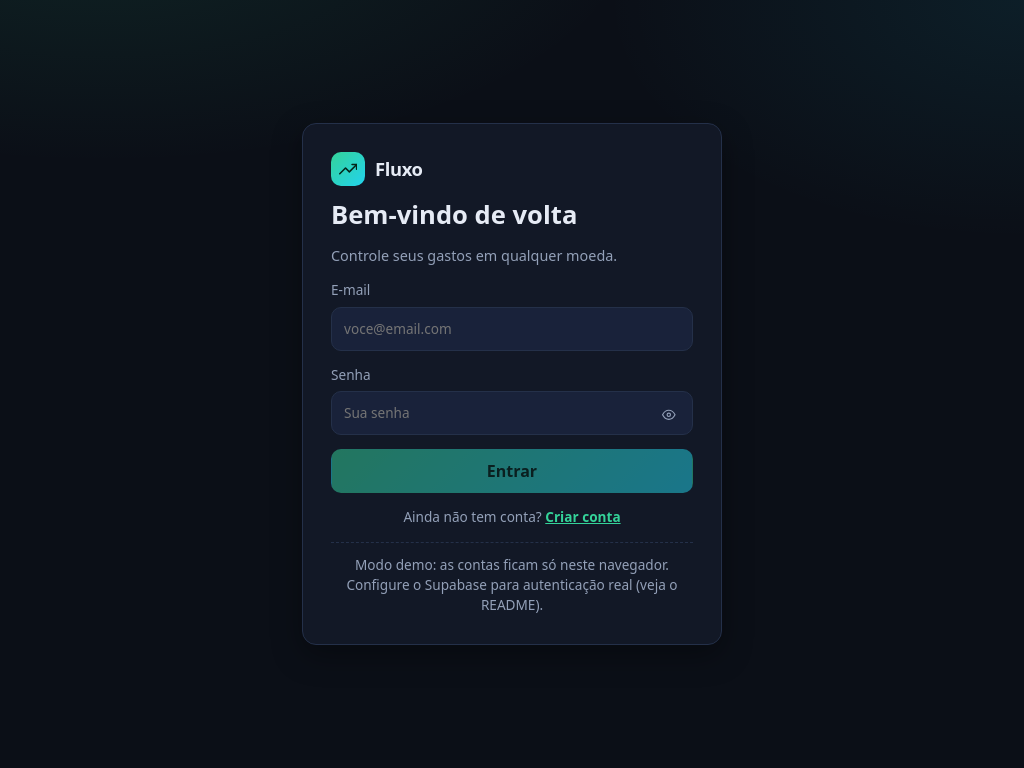
Scenario: Carteira › valida o formulário
Check: the heading "Bem-vindo de volta" is shown, box [331, 197, 577, 232]
Click the button "Criar conta" at point(583, 518), box [545, 507, 621, 528]
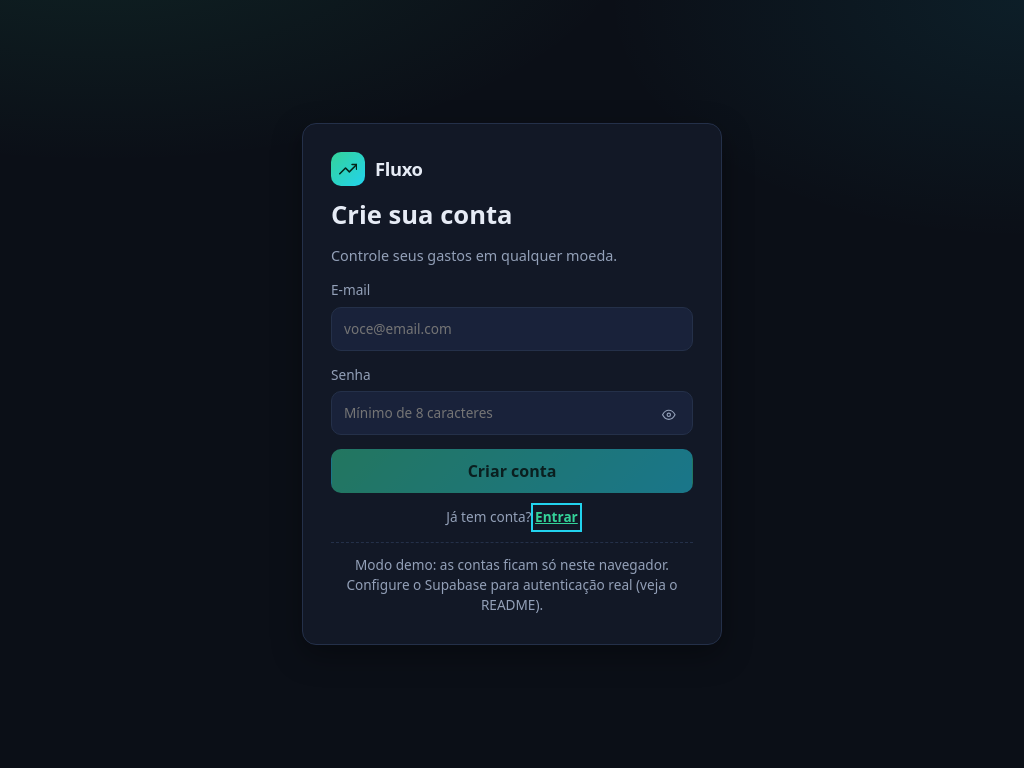
Type "teste@teste.com" into the field with placeholder "voce@email.com" at point(512, 329), box [331, 307, 693, 351]
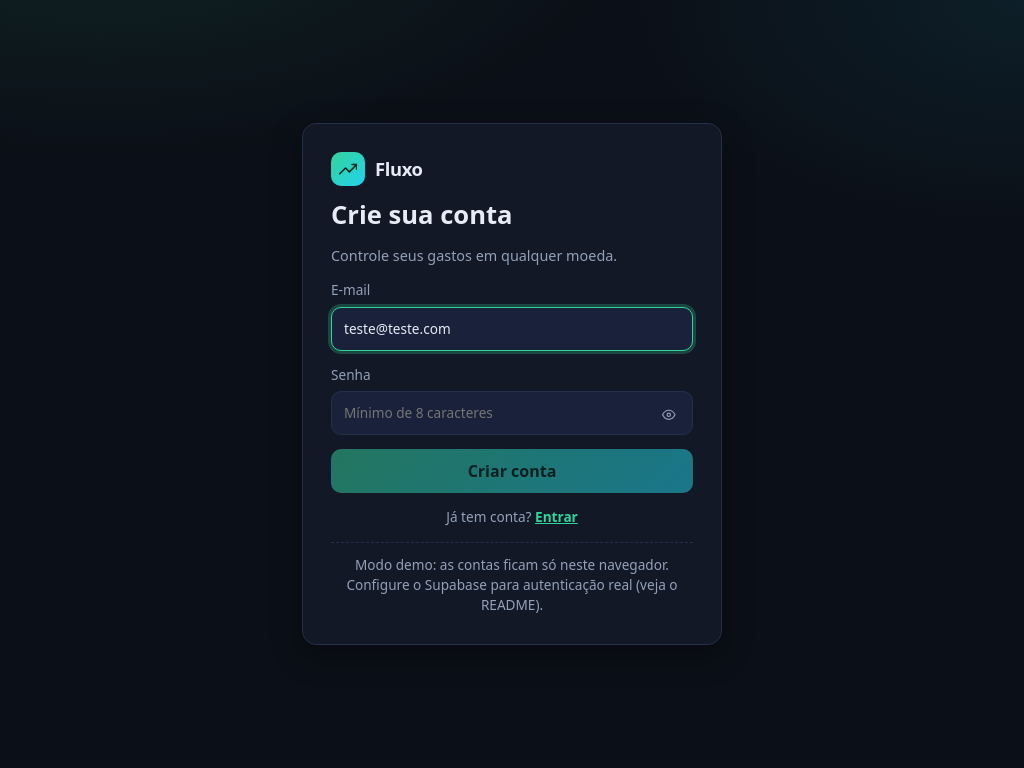
Type "12345678" into the password field with test id "password-input" at point(512, 413), box [331, 391, 693, 435]
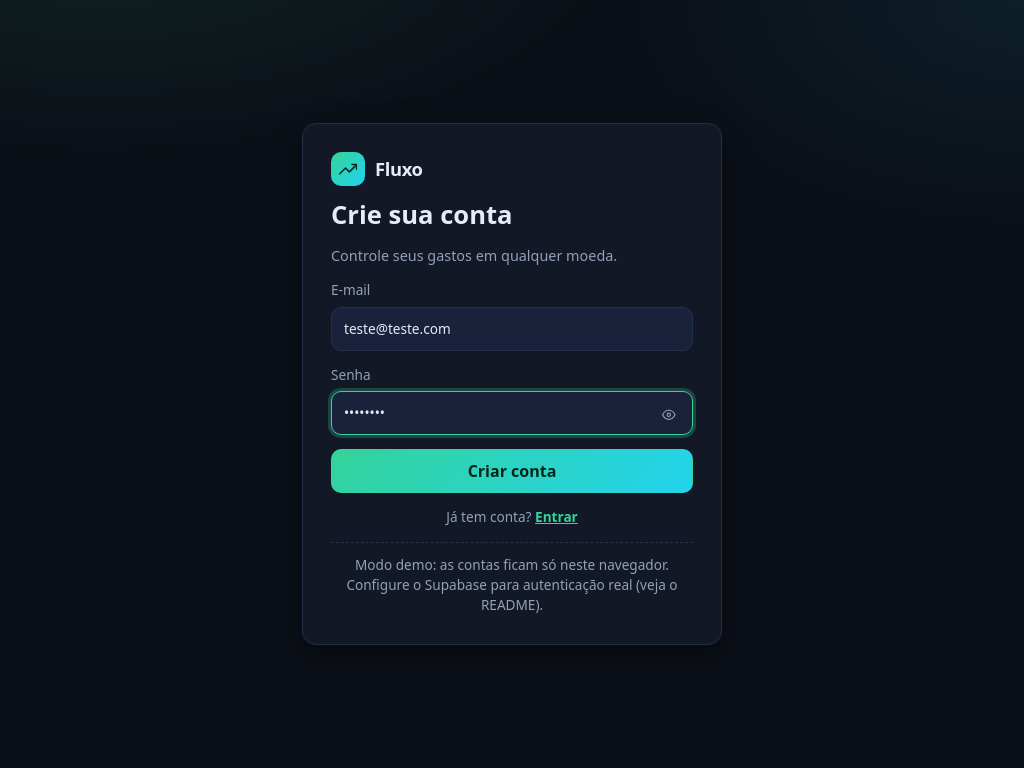
Click the button "Criar conta" at point(512, 471), box [331, 449, 693, 493]
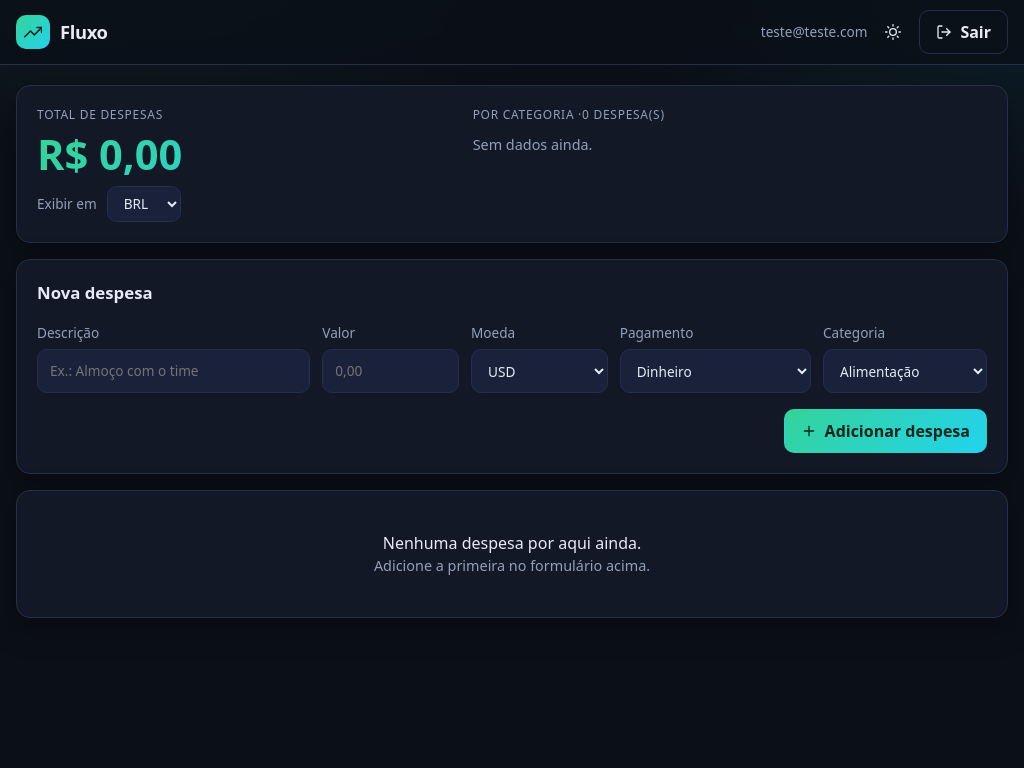
Check: the text "R$ 0,00" is shown, box [37, 132, 433, 178]
Click the button "Adicionar despesa" at point(885, 431), box [784, 409, 987, 453]
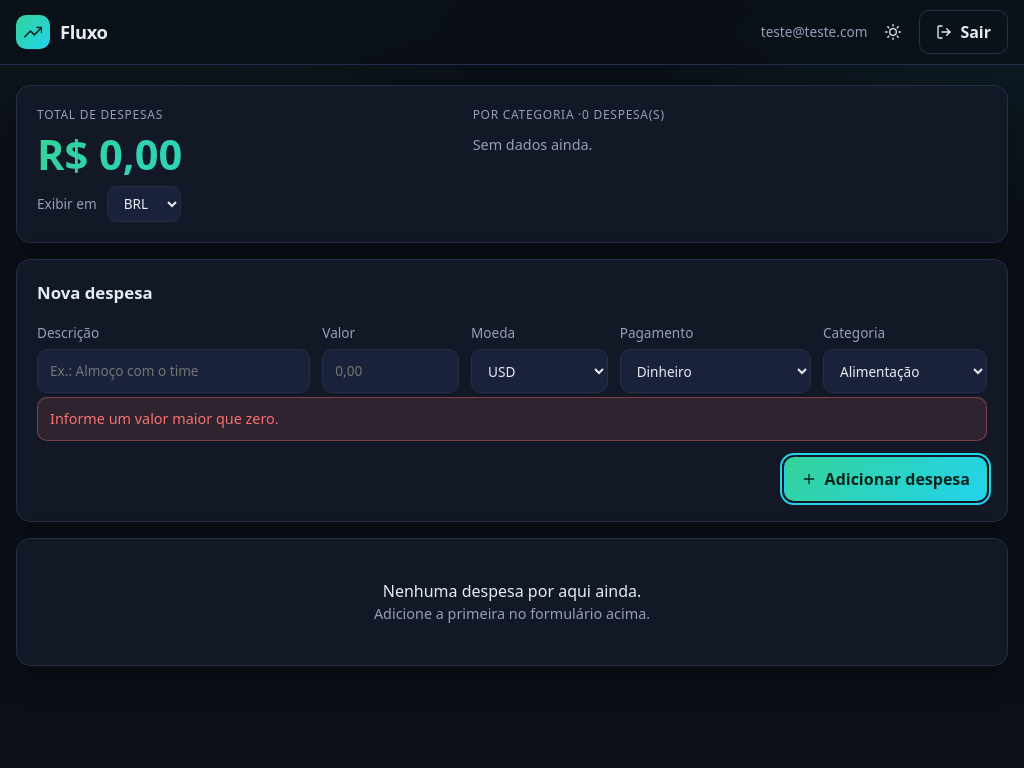
Check: the message shows "valor maior que zero", box [50, 409, 279, 428]
